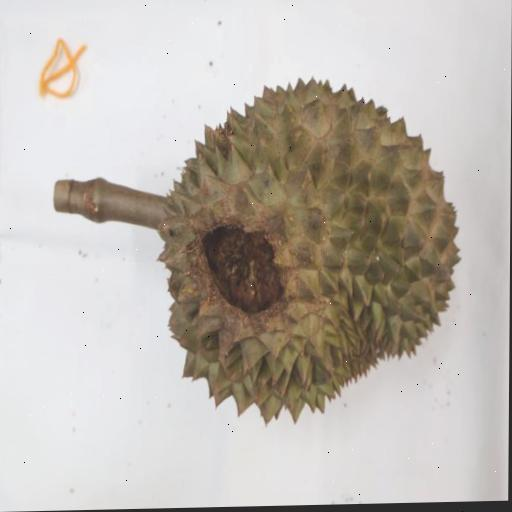rot: (40, 0, 478, 465)
